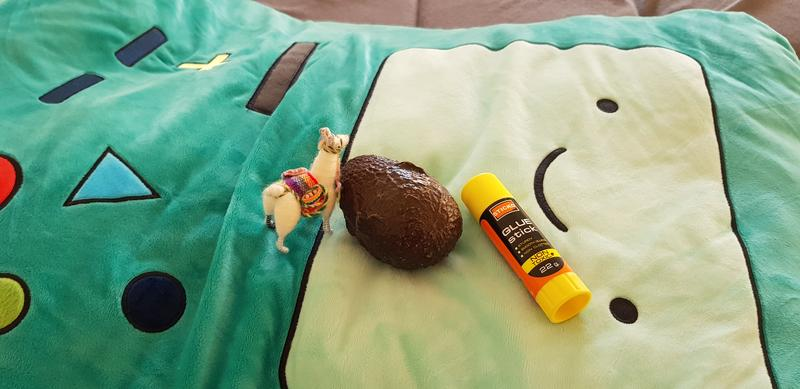Avocado: (332, 149, 462, 273)
Glue-Stick: (456, 170, 596, 326)
Horse-Toy: (256, 122, 346, 255)
